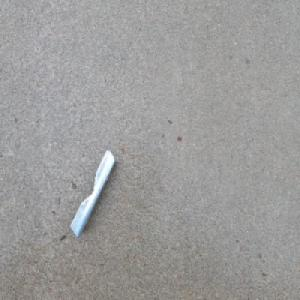ClampPart: (70, 148, 117, 238)
